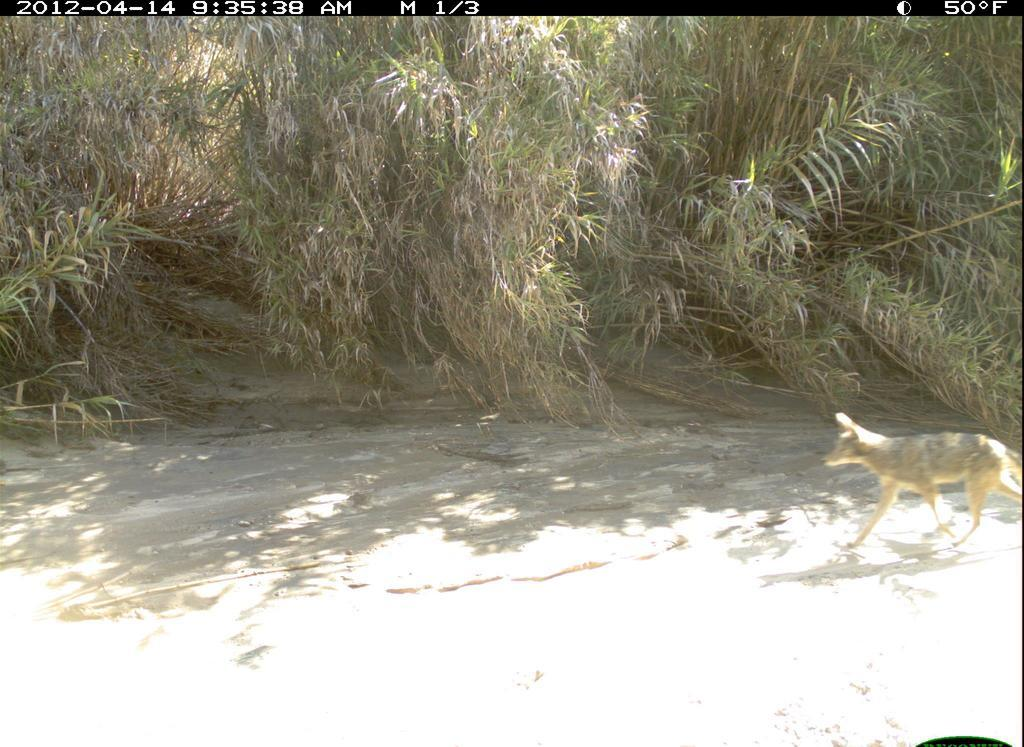coyote: (817, 408, 1023, 561)
